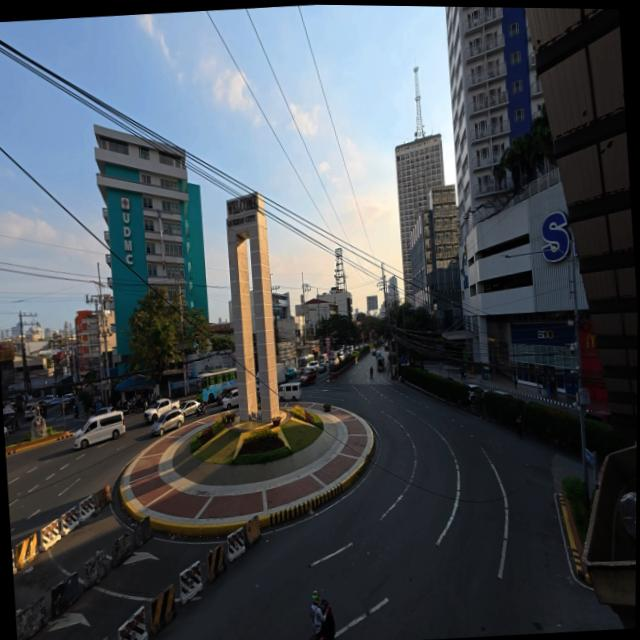bus: (200, 367, 237, 402), (298, 355, 315, 370)
car: (152, 408, 184, 435), (216, 387, 237, 405), (222, 389, 239, 409), (181, 400, 200, 417), (468, 384, 486, 401), (300, 371, 316, 386), (93, 407, 113, 416), (493, 390, 515, 398), (304, 360, 319, 371), (48, 398, 63, 407), (42, 395, 54, 406), (285, 367, 296, 379), (318, 363, 327, 374), (310, 361, 318, 371), (4, 427, 9, 439), (384, 344, 389, 351), (376, 351, 381, 357)
motorcycle: (319, 599, 335, 639), (196, 403, 206, 416), (74, 405, 79, 418), (370, 369, 373, 378)
trucks: (144, 398, 179, 423), (276, 363, 285, 384)
vans: (74, 411, 125, 449), (278, 382, 301, 401), (25, 404, 39, 419)
